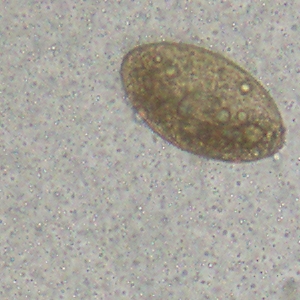Fasciola_hepatica_egg: (120, 40, 284, 164)
